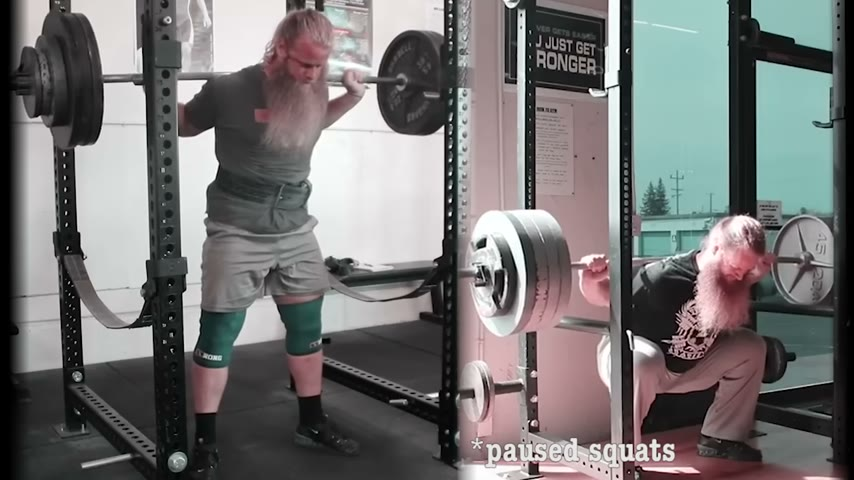barbell_plate_side: (1, 8, 110, 155), (385, 26, 477, 147), (445, 204, 526, 332)
